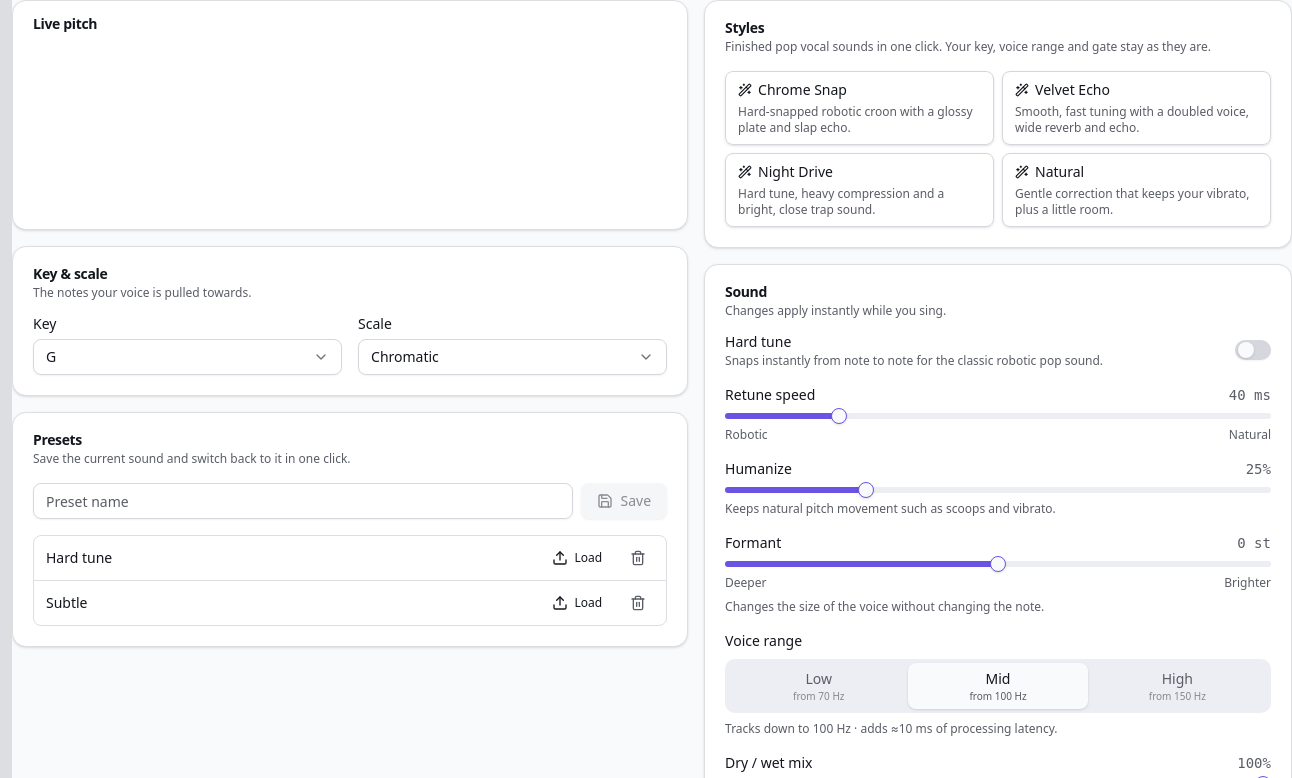
Test: TunePanel (FR-06 – FR-11) › FR-27: applies a built-in style and keeps the key
The image size is (1292, 778).
Expected: the dropdown named "Key" is shown, [33, 339, 342, 375]
Click the button with aria-label "Apply style Chrome Snap" at (860, 108), box [725, 71, 994, 145]
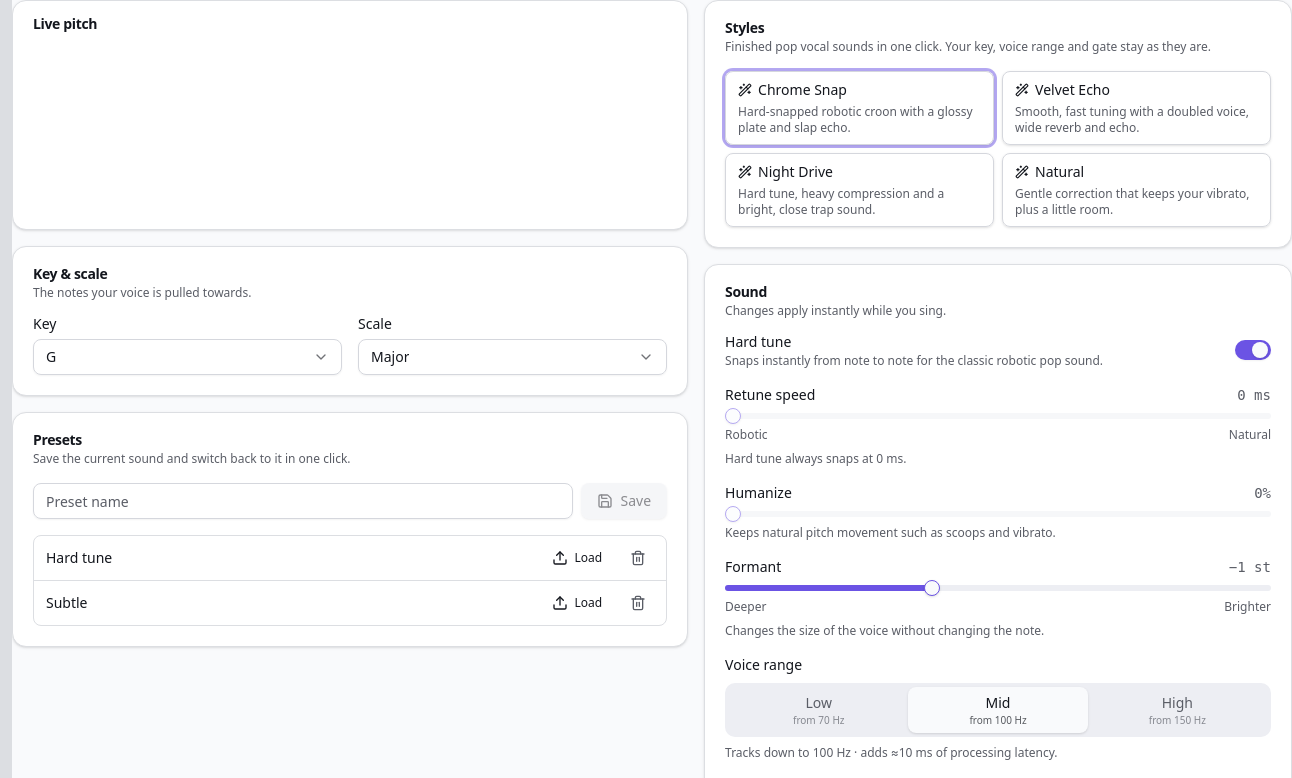
Expected: the dropdown named "Key" reads "G", [33, 339, 342, 375]
Expected: the dropdown named "Scale" reads "Major", [358, 339, 667, 375]
